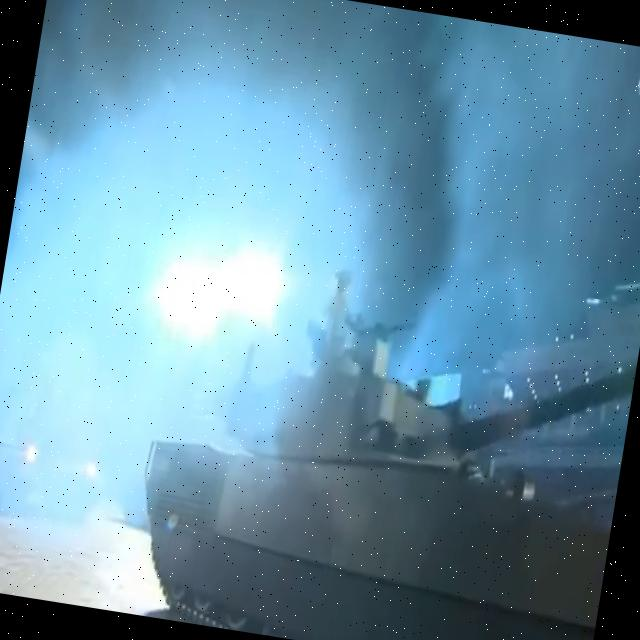north tank: (101, 221, 640, 640)
